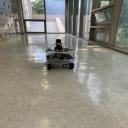cart: (45, 49, 75, 70)
